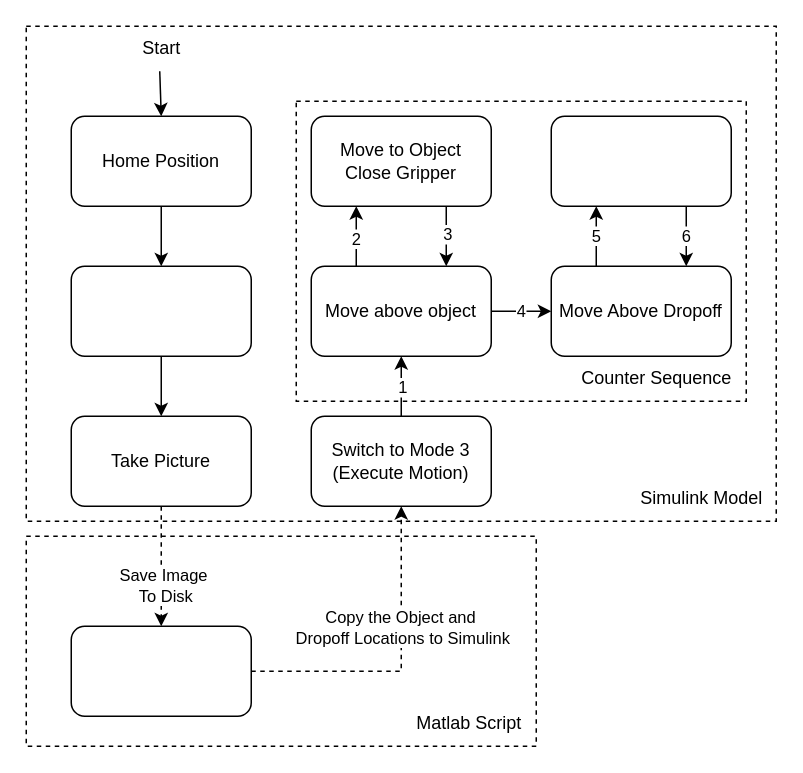
This 803x773 diagram has some shape labels left out. Each missing label, with the centre of its shape:
"Move To Dropoff Open Gripper" belongs at point (640, 160).
"Move to Image Capture position" belongs at point (160, 310).
"Run AprilTag Script" belongs at point (160, 670).
